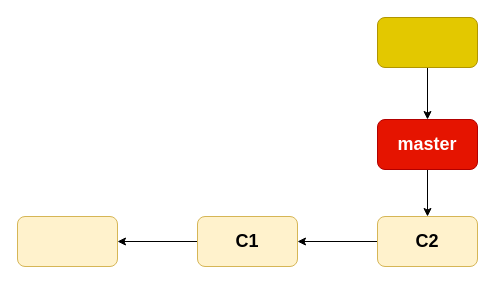
The diagram is 495 pixels wide and 284 high, and some of its shapes have lost their labels. Here are the shapes that lost their labels. From the top down, the centre of each, then its label:
At (427,42): "HEAD".
At (67,241): "C0".
